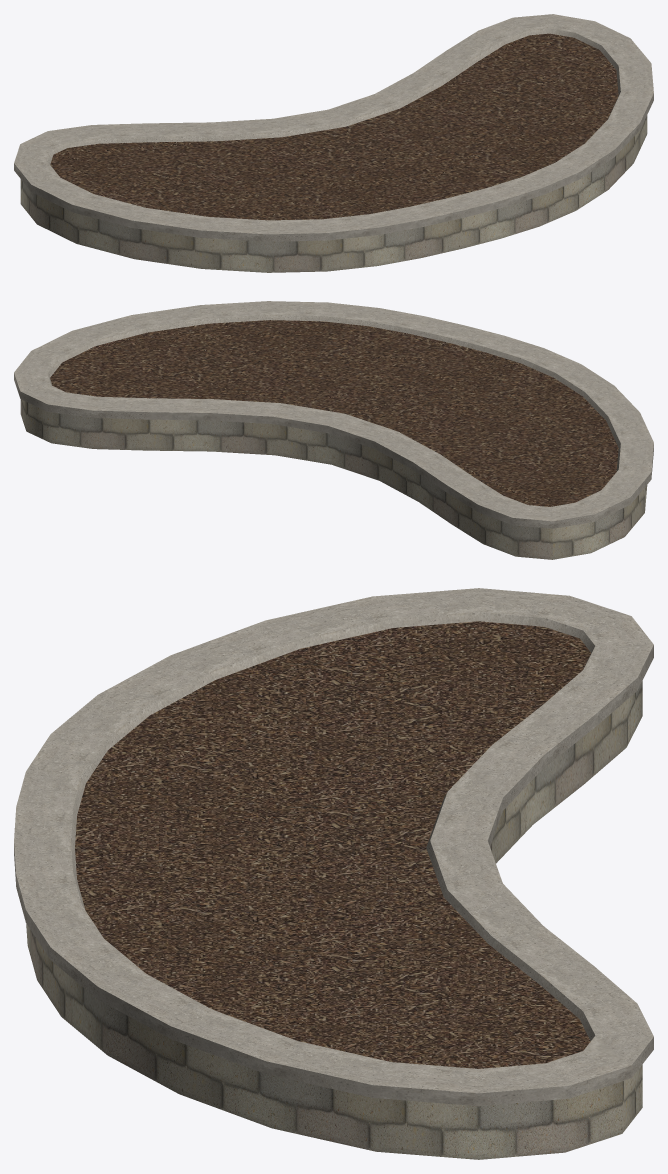
File: flower_bed_a.FBX
3 views of the same model, one above another, from view 1: azimuth 30°, elevation 25°; view 2: azimuth 150°, elevation 25°; view 3: azimuth 270°, elevation 25° (orthographic). The views are drawn at different scales.
Parts seen in each view (by area): view 1: flower_bed_a; view 2: flower_bed_a; view 3: flower_bed_a.
Boxes of the visible parts, x1=… form: flower_bed_a: x1=14, y1=14, x2=653, y2=272; flower_bed_a: x1=14, y1=301, x2=653, y2=559; flower_bed_a: x1=14, y1=588, x2=653, y2=1159.
Size of the model in its own units: 608 by 40 by 325.
